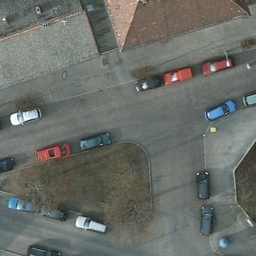car: (132, 68, 164, 90), (9, 106, 42, 127), (80, 131, 111, 152), (35, 144, 69, 163), (201, 56, 233, 76), (75, 215, 109, 233), (163, 64, 192, 84), (206, 101, 236, 119), (199, 204, 213, 238), (5, 196, 35, 211), (195, 170, 209, 202), (40, 205, 67, 219), (1, 157, 16, 172)
